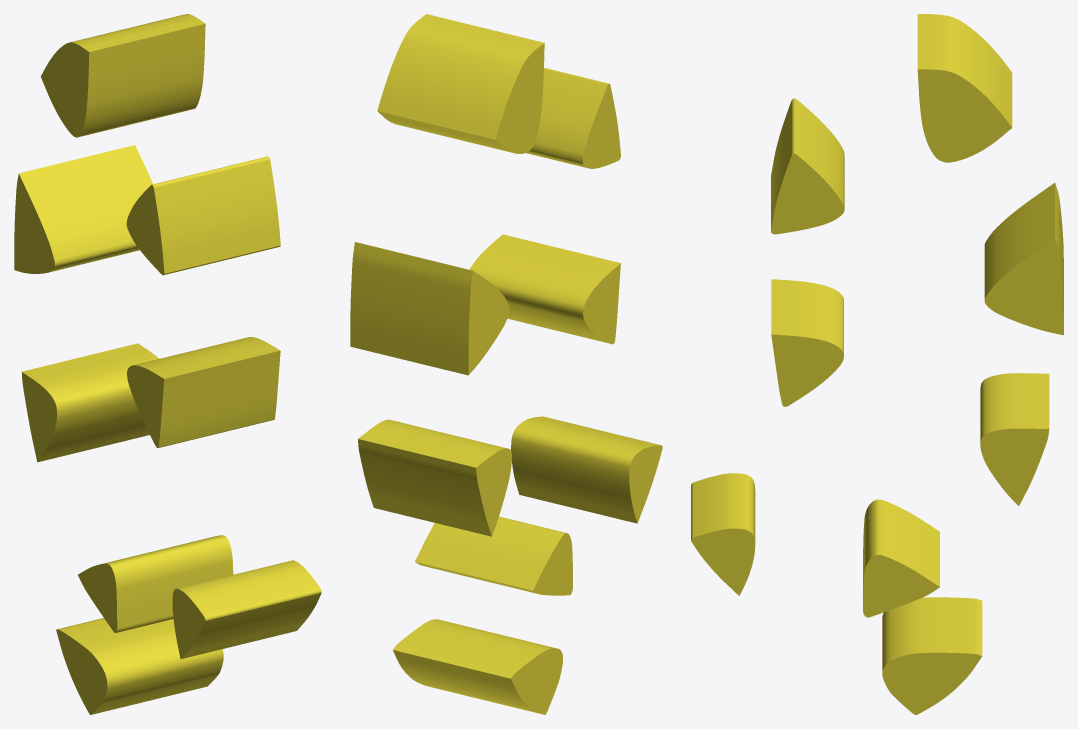
Rendered from FrontPanalYellows.obj.
3 renders of one model, left to right at view 1: azimuth 30°, elevation 25°; view 2: azimuth 150°, elevation 25°; view 3: azimuth 270°, elevation 25°, orthographic. The views are drawn at different scales.
Visible parts, largest first — view 1: Body77, Body84, Body83, Body90, Body89, Body82, Body88, Body78; view 2: Body77, Body84, Body89, Body88, Body90, Body82, Body78, Body83; view 3: Body77, Body82, Body84, Body83, Body90, Body89, Body78, Body88.
Part boxes in pixels (left/top/right/bottom): Body77: left=40, top=14, right=205, bottom=137; Body84: left=14, top=145, right=152, bottom=273; Body83: left=126, top=156, right=280, bottom=275; Body90: left=127, top=337, right=280, bottom=447; Body89: left=21, top=343, right=159, bottom=462; Body82: left=56, top=618, right=223, bottom=714; Body88: left=172, top=560, right=321, bottom=658; Body78: left=78, top=535, right=233, bottom=632; Body77: left=377, top=14, right=544, bottom=153; Body84: left=350, top=242, right=509, bottom=375; Body89: left=358, top=419, right=511, bottom=536; Body88: left=511, top=416, right=662, bottom=523; Body90: left=469, top=234, right=620, bottom=344; Body82: left=393, top=619, right=562, bottom=714; Body78: left=415, top=516, right=572, bottom=595; Body83: left=526, top=68, right=620, bottom=168; Body77: left=917, top=14, right=1012, bottom=162; Body82: left=882, top=597, right=982, bottom=714; Body84: left=984, top=183, right=1063, bottom=335; Body83: left=771, top=98, right=844, bottom=234; Body90: left=771, top=279, right=843, bottom=406; Body89: left=980, top=373, right=1049, bottom=505; Body78: left=863, top=499, right=939, bottom=617; Body88: left=691, top=473, right=755, bottom=595.
Size of the model in its own units: 0.27 by 1.47 by 0.768.
